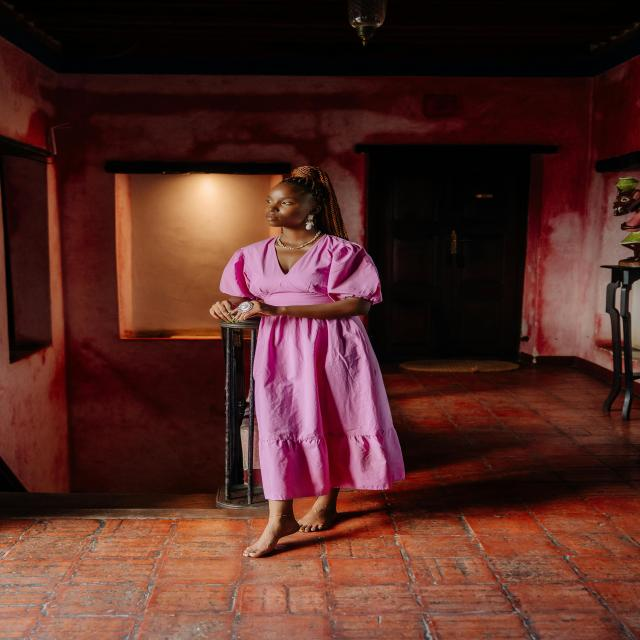stand: (199, 169, 411, 557)
